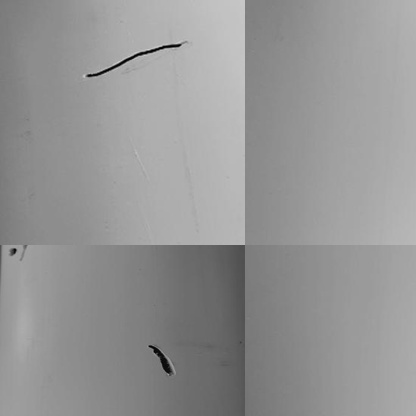fengxi: (84, 39, 190, 85)
kongdong: (146, 340, 180, 379), (6, 244, 30, 260)
